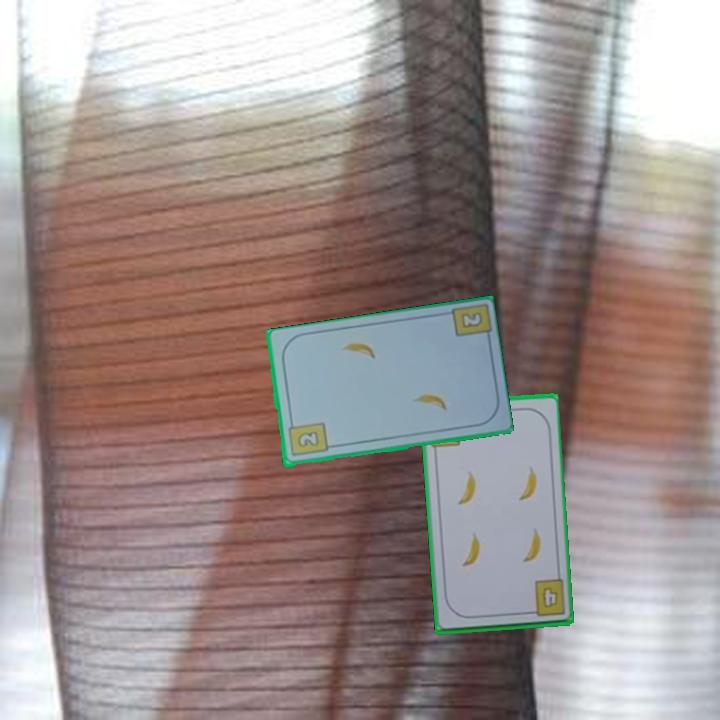2b: (284, 417, 330, 459), (457, 308, 485, 331)
4b: (524, 576, 568, 620)
